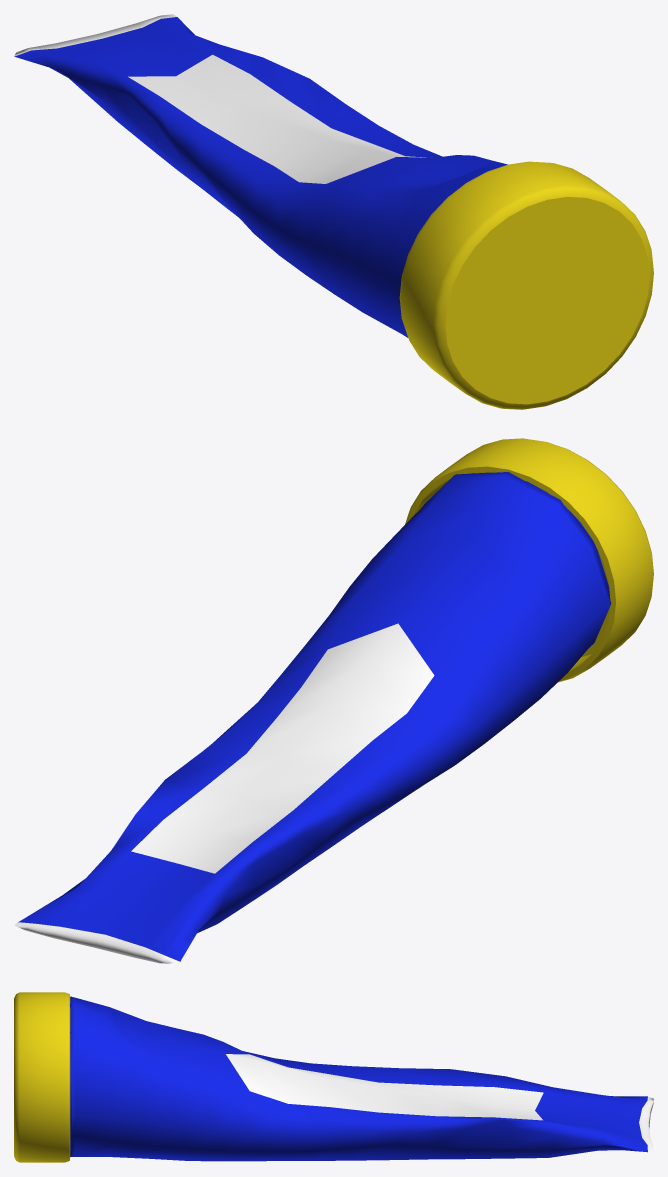
Rendered from scene_LPoQQTVhCt.glb.
The picture shows the model from 3 angles, top to bottom: view 1: azimuth 30°, elevation 25°; view 2: azimuth 150°, elevation 25°; view 3: azimuth 270°, elevation 25°; orthographic projection. The views are drawn at different scales.
Parts seen in each view (by area): view 1: Cylinder, Cylinder.001; view 2: Cylinder, Cylinder.001; view 3: Cylinder, Cylinder.001.
Boxes of the visible parts, x1=… form: Cylinder: x1=14, y1=14, x2=507, y2=337; Cylinder.001: x1=399, y1=161, x2=653, y2=409; Cylinder: x1=14, y1=472, x2=611, y2=963; Cylinder.001: x1=405, y1=438, x2=653, y2=682; Cylinder: x1=70, y1=996, x2=653, y2=1161; Cylinder.001: x1=14, y1=992, x2=70, y2=1162.
Bounding box in the file's own units: 1.07 × 1.01 × 3.83.
